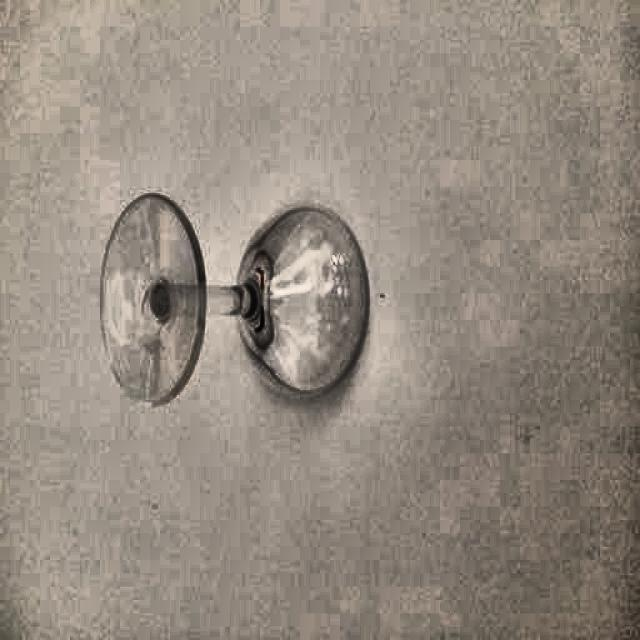glass: (99, 186, 369, 416)
